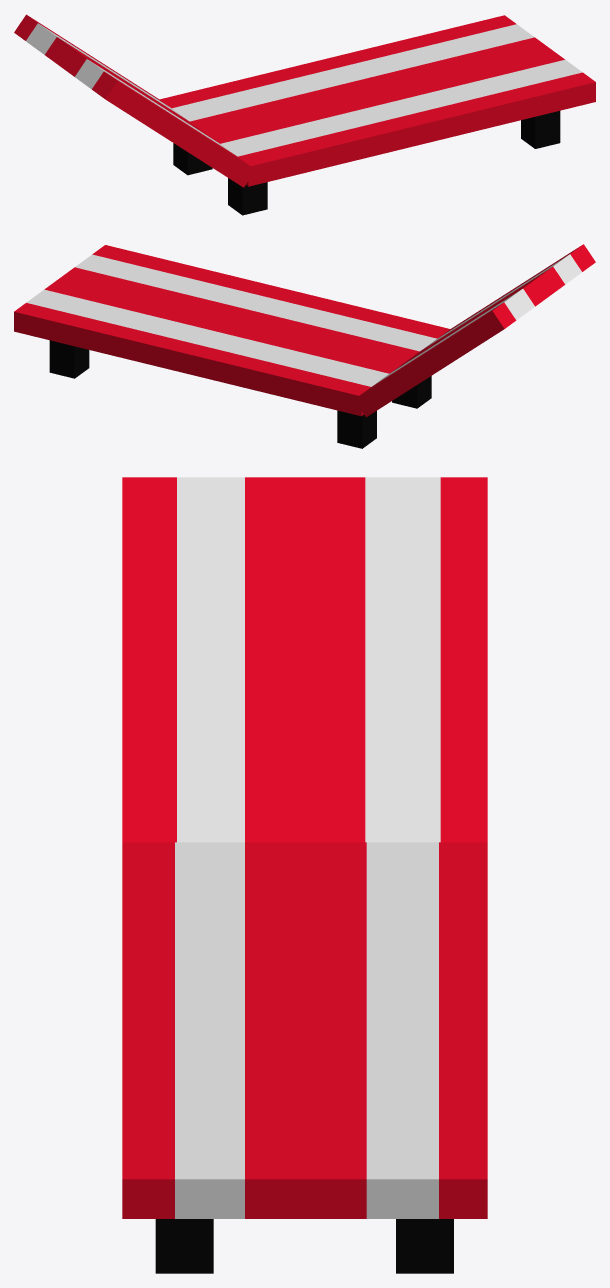
The model's file is lying_chair.fbx.
3 views of the same model, one above another, from view 1: azimuth 30°, elevation 25°; view 2: azimuth 150°, elevation 25°; view 3: azimuth 270°, elevation 25° (orthographic). The views are drawn at different scales.
Visible parts, largest first — view 1: pCube9; view 2: pCube9; view 3: pCube9.
Part boxes in pixels (x1,y1,x2,y2): pCube9: (14,14,595,215); pCube9: (14,244,595,448); pCube9: (122,477,487,1273).
Bounding box in the file's own units: 11.47 × 3.97 × 3.7.
